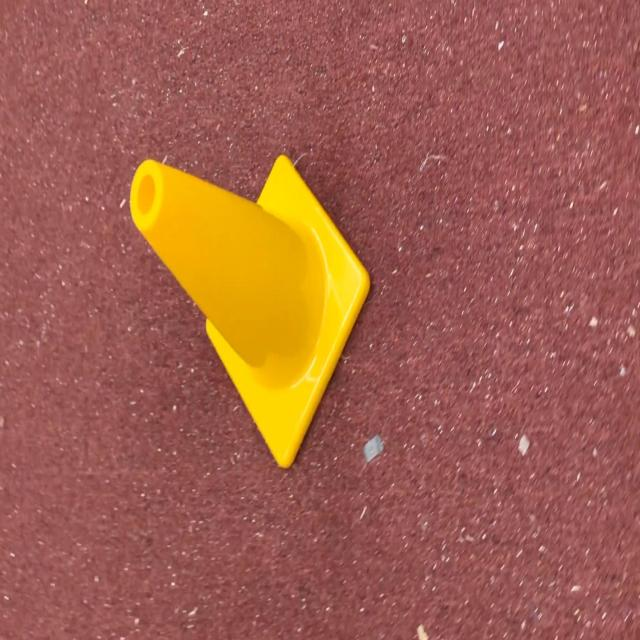frc_cone: (127, 149, 371, 469)
